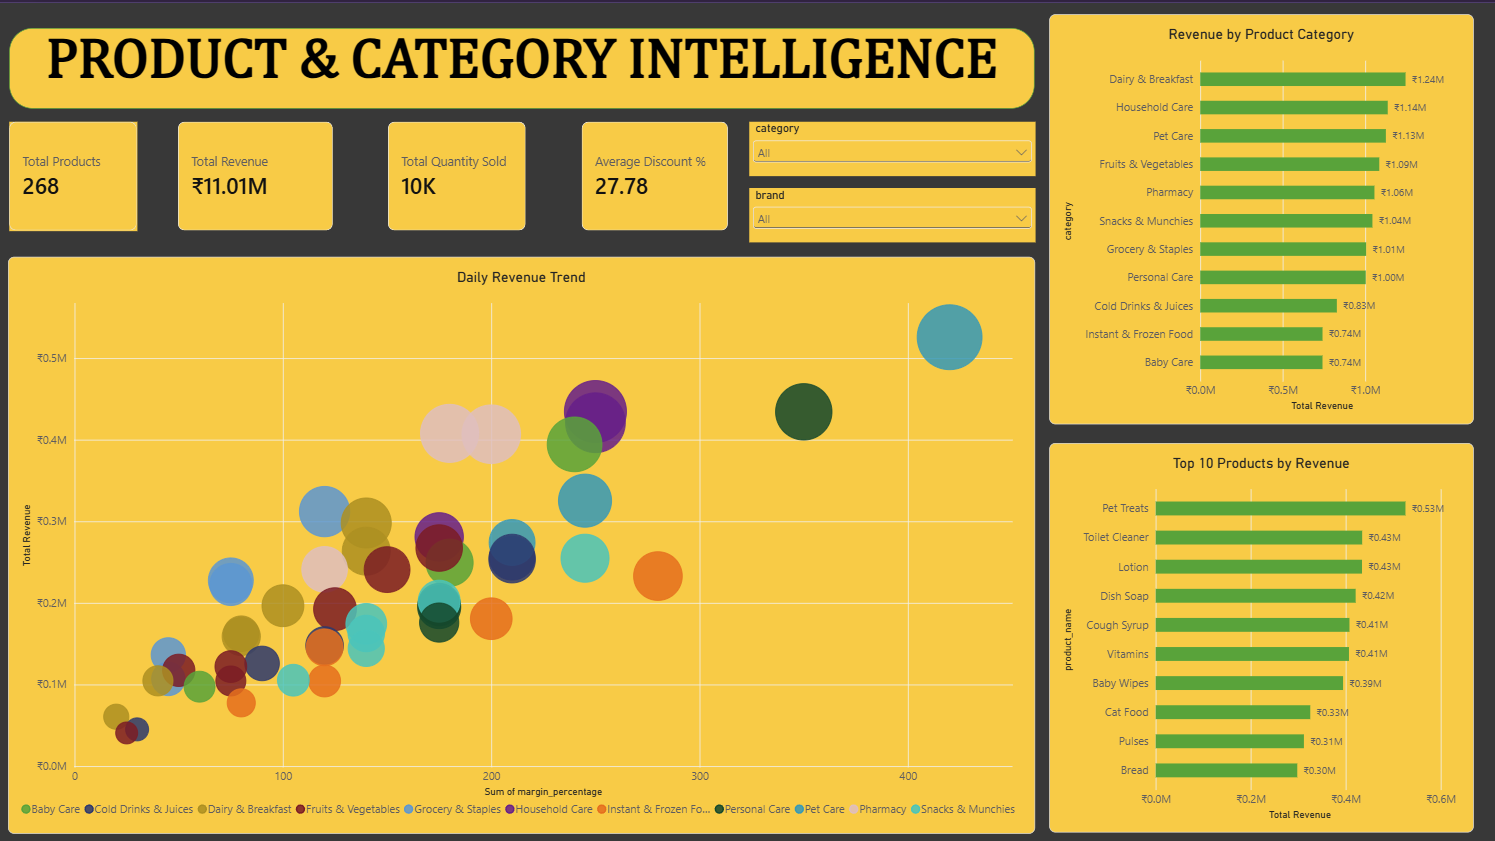

What the dashboard file says about the page in this screenshot:
{"tool":"powerbi","page":{"name":"PRODUCT PERFORMANCE","canvas":[1920,1080],"ordinal":2},"visuals":[{"type":"cardVisual","fields":{"Data":["blinkit_products.Total Products"]},"box":[14.4,151.7,163.8,139.9],"z":0},{"type":"cardVisual","fields":{"Data":["blinkit_products.Average Discount %"]},"box":[746.9,151.7,187.7,139.9],"z":1000},{"type":"cardVisual","fields":{"Data":["blinkit_order_items.Total Quantity Sold"]},"box":[499.6,151.7,176.7,139.9],"z":2000},{"type":"cardVisual","fields":{"Data":["blinkit_orders.Total Revenue"]},"box":[230.3,151.7,198.8,139.9],"z":3000},{"type":"scatterChart","title":"Daily Revenue Trend","fields":{"Category":["blinkit_products.product_name"],"Series":["blinkit_products.category"],"Size":["blinkit_order_items.Total Quantity Sold"],"X":["Sum(blinkit_products.margin_percentage)"],"Y":["blinkit_orders.Total Revenue"]},"box":[12.9,323.9,1314.1,738],"z":4000},{"type":"clusteredBarChart","title":"\tRevenue by Product Category","fields":{"Category":["blinkit_products.category"],"Y":["blinkit_orders.Total Revenue"]},"box":[1345.4,14.7,542.9,524.5],"z":5000},{"type":"clusteredBarChart","title":"Top 10 Products by Revenue","fields":{"Category":["blinkit_products.product_name"],"Y":["blinkit_orders.Total Revenue"]},"box":[1345.4,563.2,542.9,498.8],"z":6000},{"type":"slicer","fields":{"Values":["blinkit_products.category"]},"box":[960.7,151.7,366.3,69.9],"z":7000},{"type":"slicer","fields":{"Values":["blinkit_products.brand"]},"box":[960.7,236.3,366.3,69.9],"z":8000},{"type":"textbox","box":[14.7,31.3,1312.3,103.1],"z":9000}]}

Visuals, with their boxes in screenshot pixels (x1, y1, x2, y2), scaled from the page's 1920x1080 canvas onto the 1495x841 screenshot:
cardVisual - blinkit_products.Total Products: <region>11, 118, 139, 227</region>
cardVisual - blinkit_products.Average Discount %: <region>582, 118, 728, 227</region>
cardVisual - blinkit_order_items.Total Quantity Sold: <region>389, 118, 527, 227</region>
cardVisual - blinkit_orders.Total Revenue: <region>179, 118, 334, 227</region>
"Daily Revenue Trend" scatterChart: <region>10, 252, 1033, 827</region>
"	Revenue by Product Category" clusteredBarChart: <region>1048, 11, 1470, 420</region>
"Top 10 Products by Revenue" clusteredBarChart: <region>1048, 439, 1470, 827</region>
slicer - blinkit_products.category: <region>748, 118, 1033, 173</region>
slicer - blinkit_products.brand: <region>748, 184, 1033, 238</region>
textbox: <region>11, 24, 1033, 105</region>
